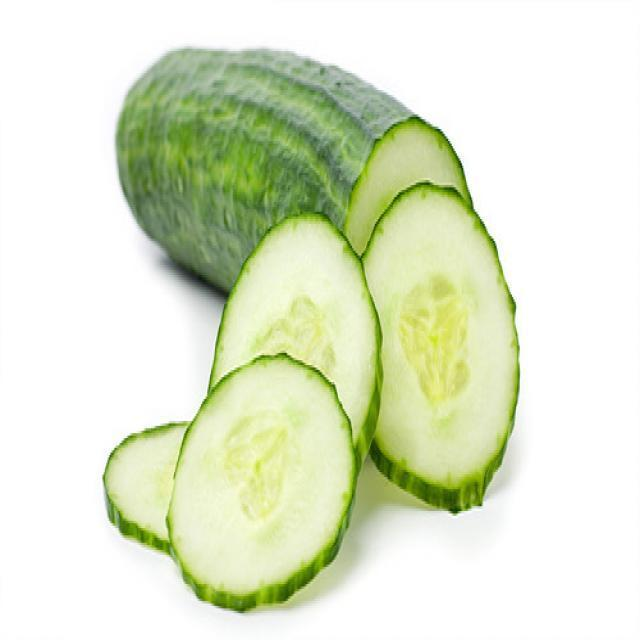cucumber: (87, 20, 550, 636), (192, 206, 381, 538), (360, 176, 533, 518), (167, 360, 360, 598)
